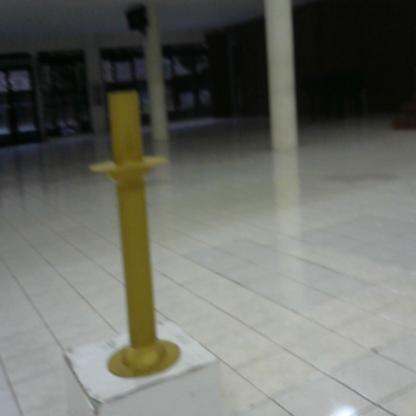pole: (82, 82, 195, 383)
